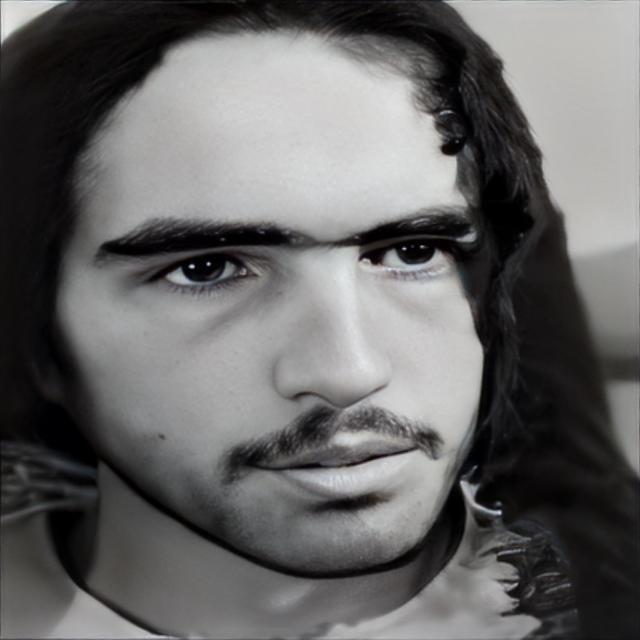anger: (76, 48, 488, 580)
